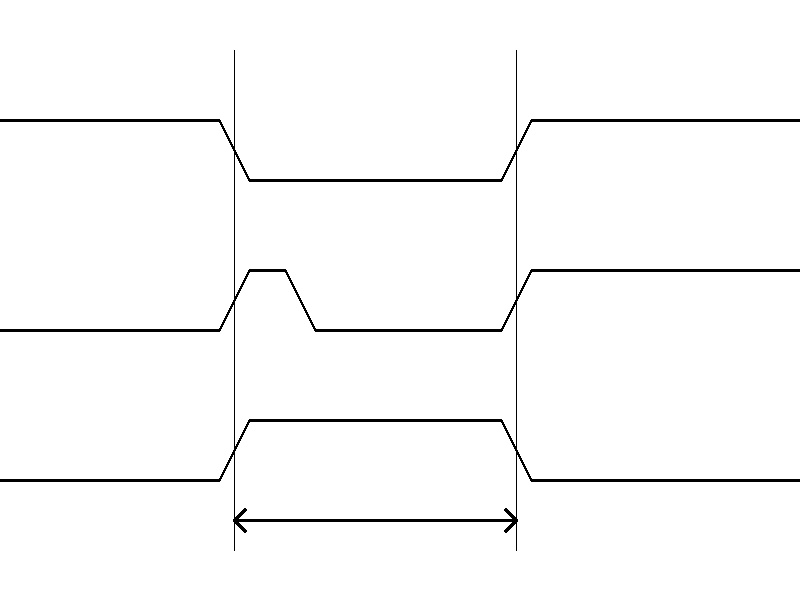double_arrow: (234, 505, 516, 535)
